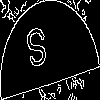S: (25, 25, 50, 78)
